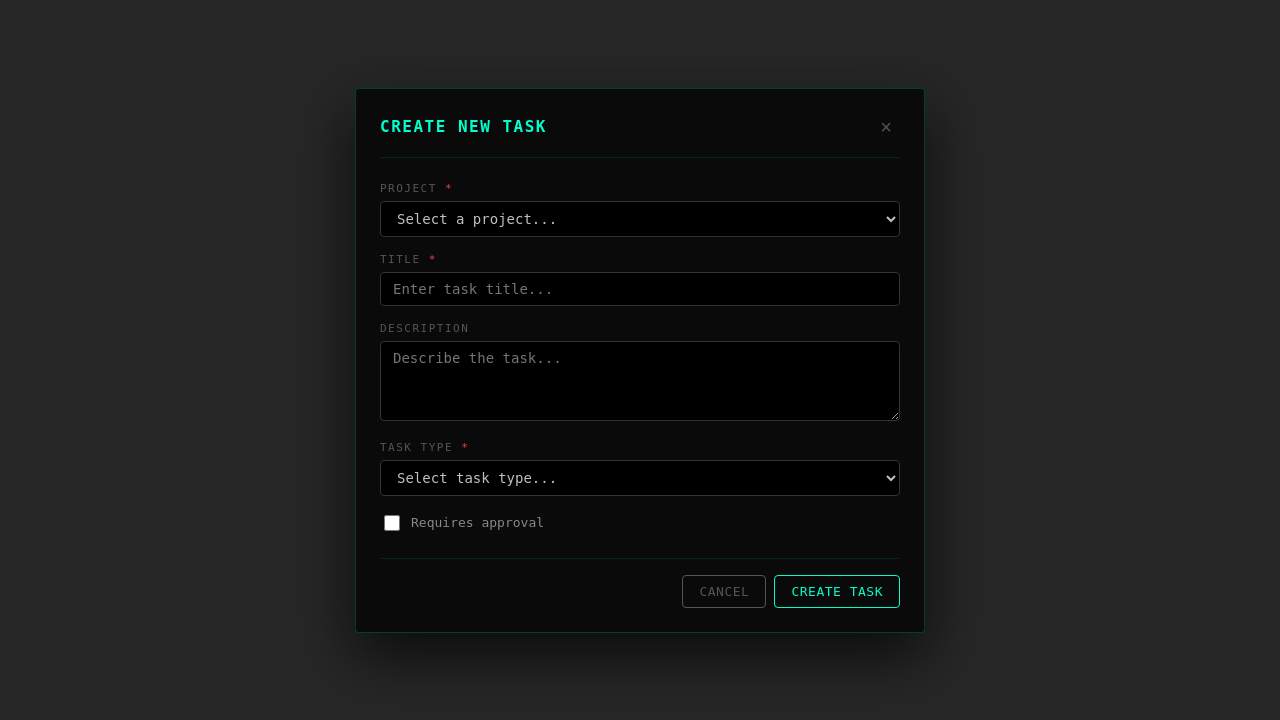
Test: CreateTaskForm › Form Validation › shows error when submitting without a task type
Fill title and project but not type
Type "Test Task" into the field with test id "create-task-title-input". click: [640, 288]
box: [380,272,900,306]
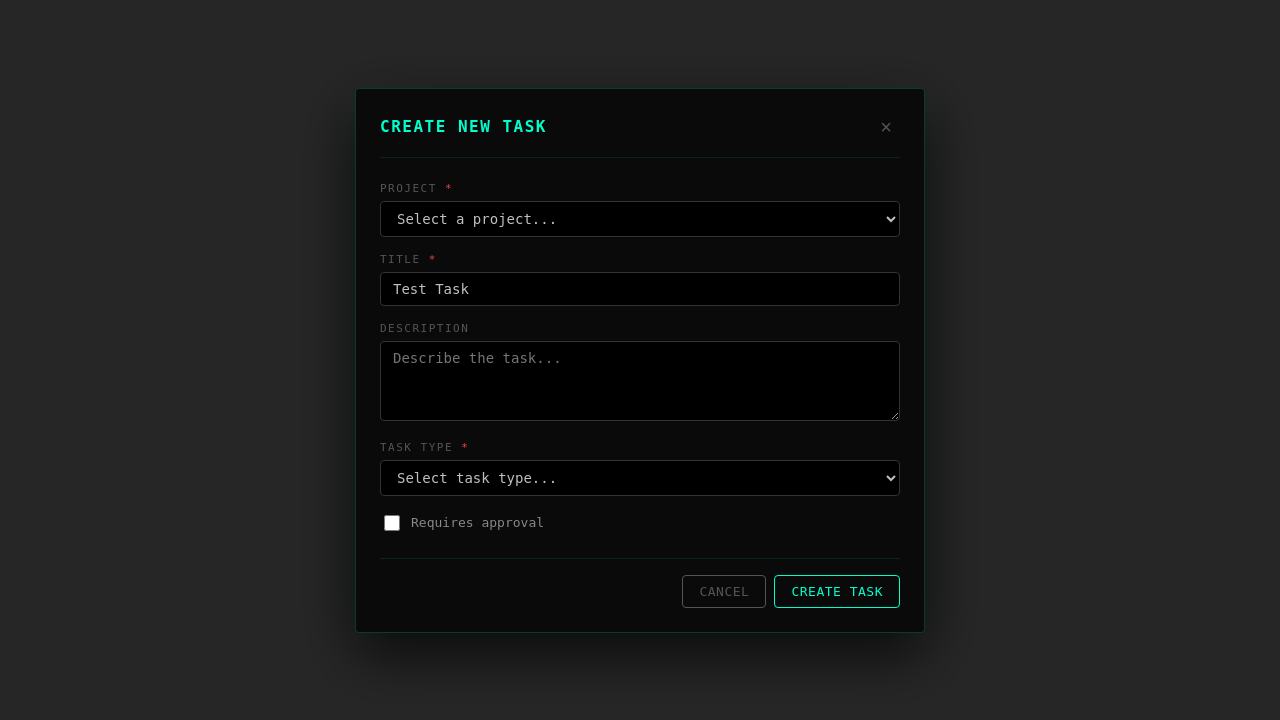
Select "Mission Control" in the dropdown with test id "create-task-project". click: [640, 218]
box: [380,200,900,236]
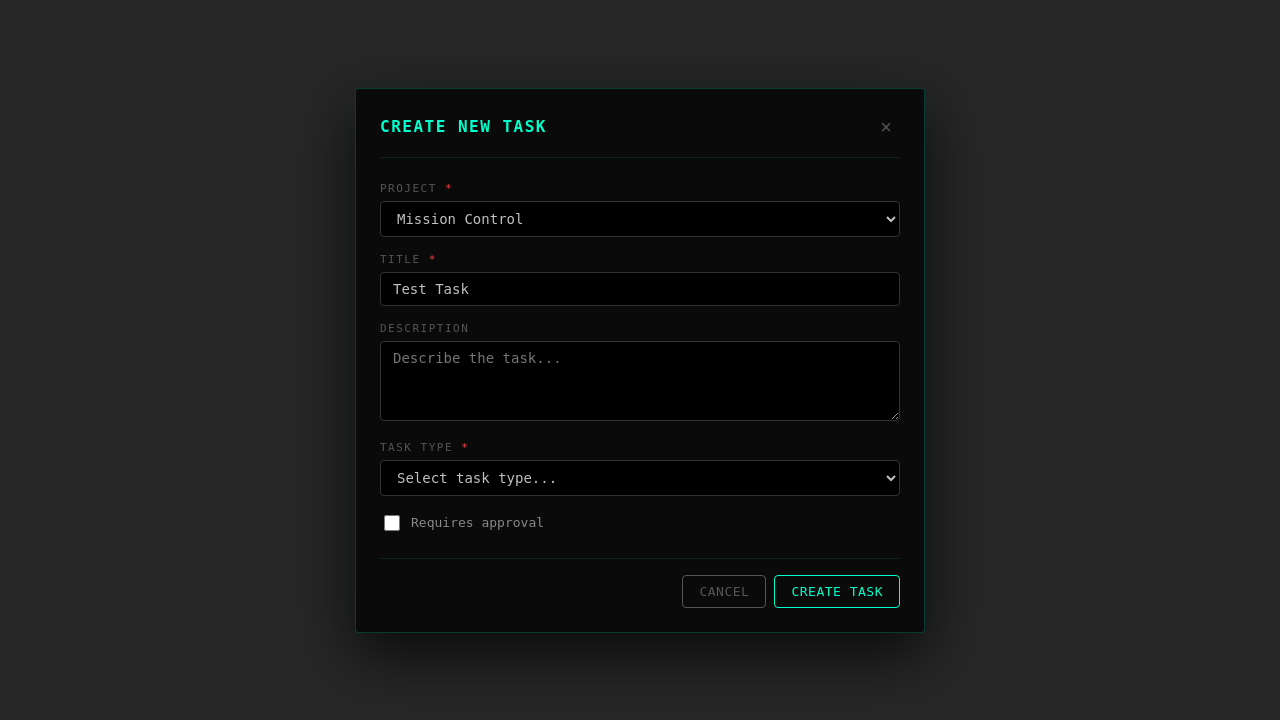
Click the button with test id "create-task-submit". click: [837, 591]
box: [774,574,900,608]
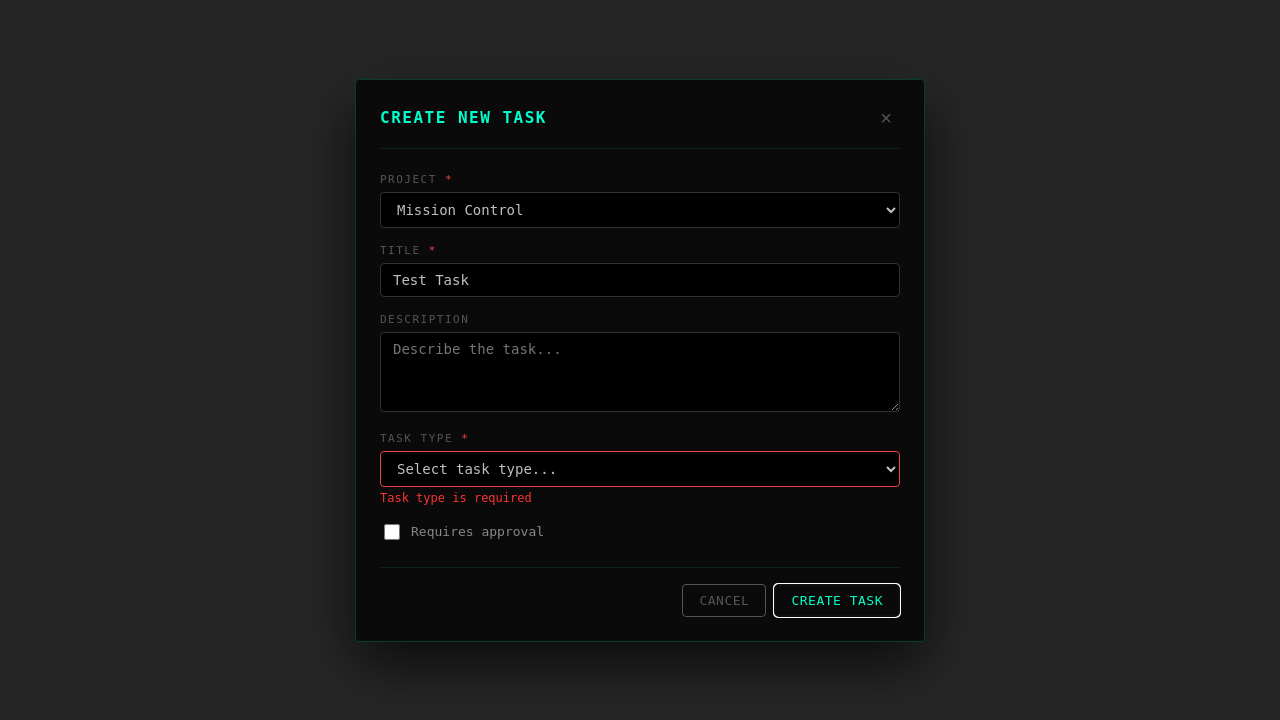
expect the text with test id "error-task-type" reads "Task type is required": met, box [380,490,532,504]
